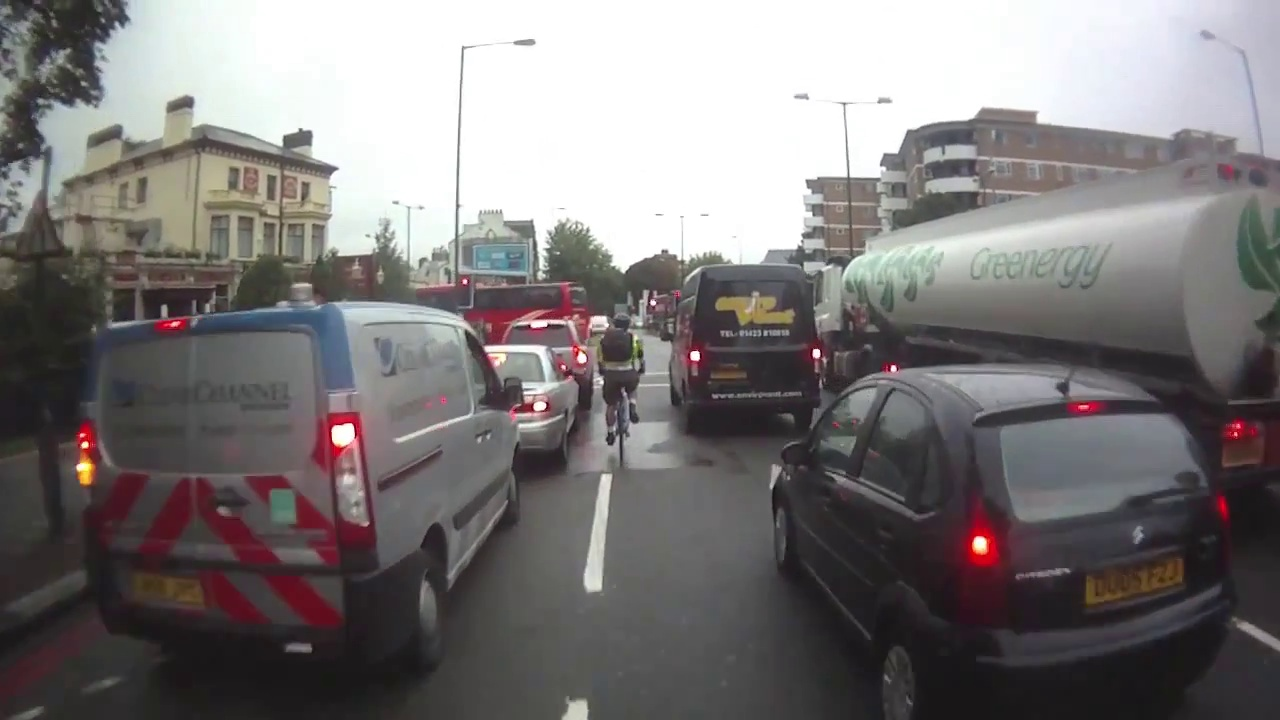cyclist_back: (595, 308, 648, 468)
